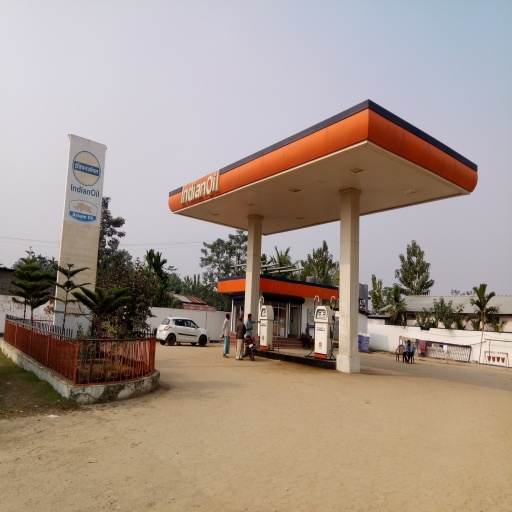roof: (167, 104, 480, 237)
